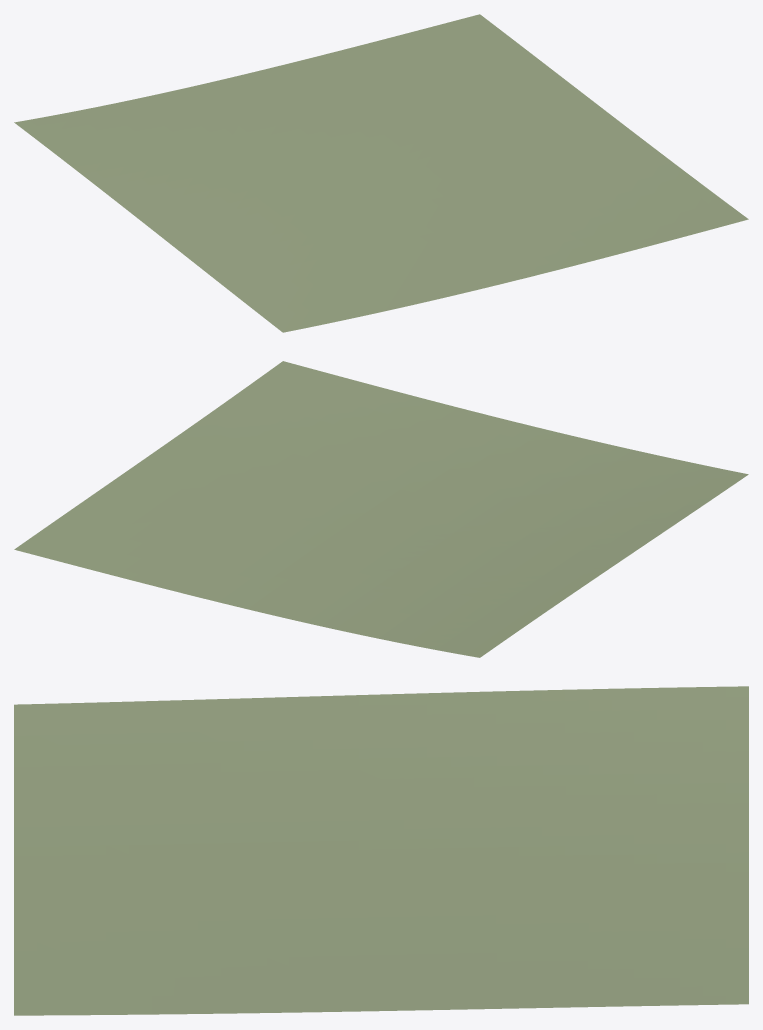
File: expanse-19-19.glb
3 renders of one model, top to bottom at view 1: azimuth 30°, elevation 25°; view 2: azimuth 150°, elevation 25°; view 3: azimuth 270°, elevation 25°, orthographic. The views are drawn at different scales.
Visible parts, largest first — view 1: expanse-19-19; view 2: expanse-19-19; view 3: expanse-19-19.
Part boxes in pixels (<box>): expanse-19-19: <box>14,14,748,332</box>; expanse-19-19: <box>14,361,748,657</box>; expanse-19-19: <box>14,686,748,1015</box>.
Size of the model in its own units: 256 by 9.44 by 256.
